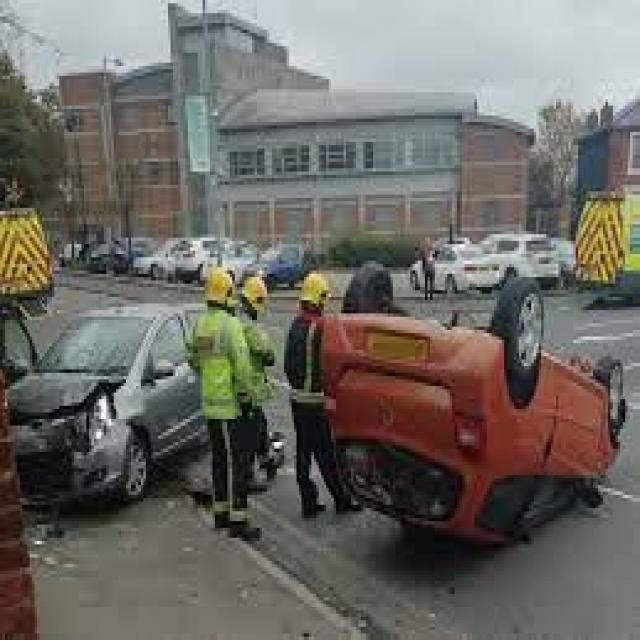accident: (318, 254, 632, 561)
